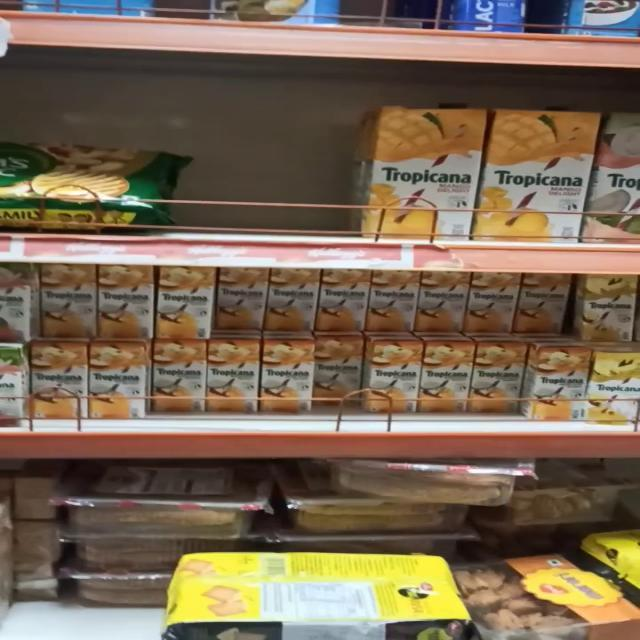Tropicana: (345, 99, 477, 236), (480, 110, 591, 242), (34, 262, 107, 341), (90, 264, 157, 345), (364, 338, 432, 416), (152, 262, 216, 338), (32, 345, 94, 415), (150, 340, 212, 408), (412, 266, 472, 336), (527, 343, 584, 415), (259, 265, 317, 333), (259, 339, 314, 410), (86, 346, 141, 416), (209, 262, 267, 328), (314, 268, 372, 334), (208, 340, 260, 412), (470, 341, 524, 410), (366, 268, 422, 331), (316, 338, 364, 408), (466, 272, 516, 338), (517, 274, 563, 337), (425, 344, 470, 404)
